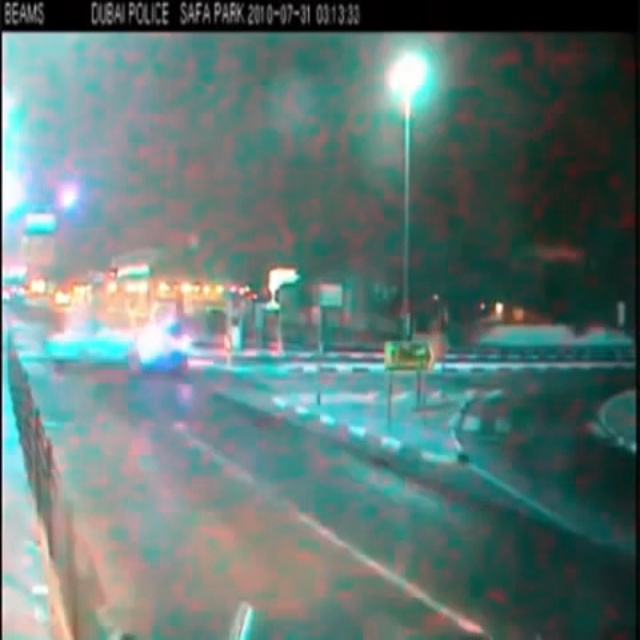acc: (37, 312, 190, 381)
